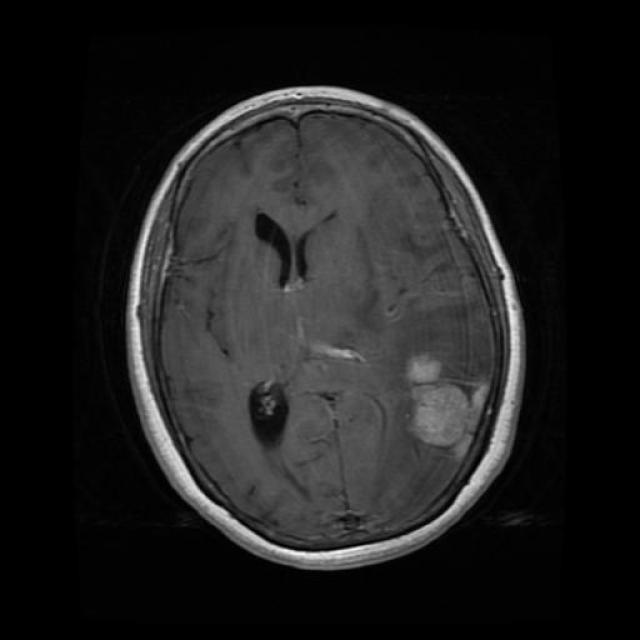meningioma: (410, 356, 470, 448)
